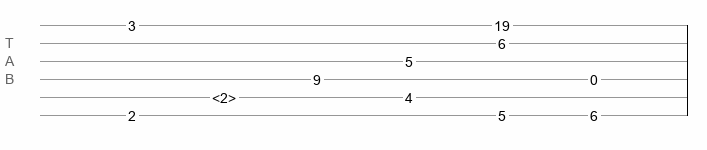0: (590, 72, 598, 82)
19: (494, 18, 510, 28)
2: (128, 108, 136, 118)
3: (128, 18, 136, 28)
4: (405, 90, 413, 100)
5: (405, 54, 413, 64), (498, 108, 506, 118)
6: (498, 36, 506, 46), (590, 108, 598, 118)
9: (313, 72, 321, 82)
harmonic: (212, 90, 236, 100)
